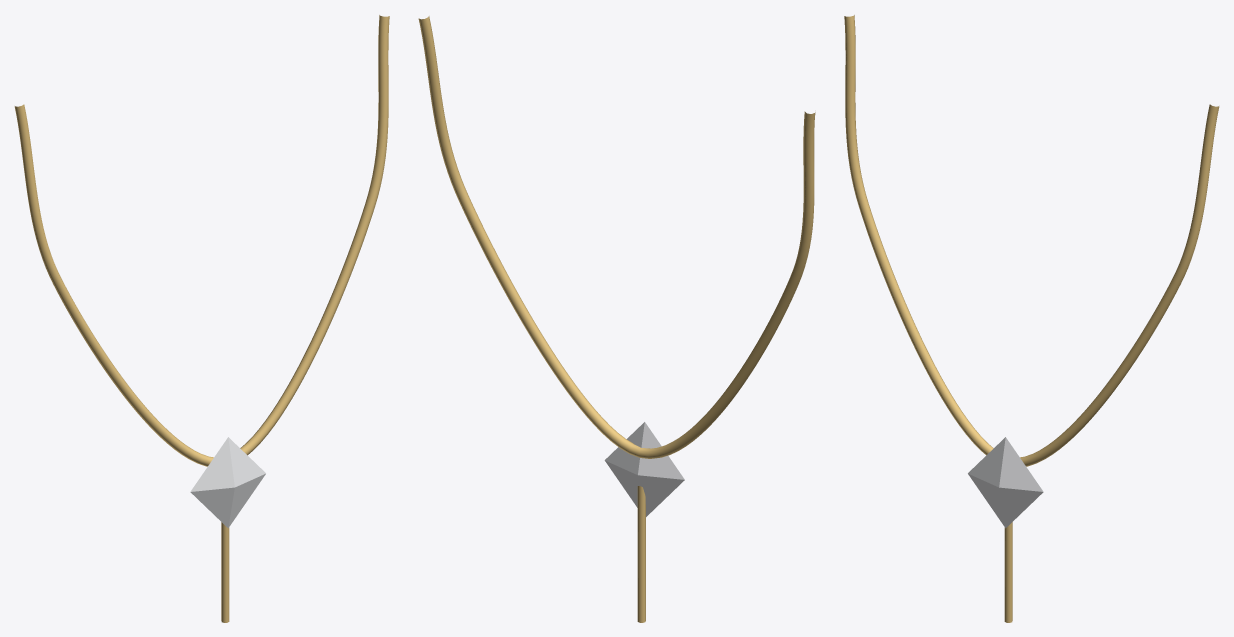
The picture shows the model from 3 angles, left to right: view 1: azimuth 30°, elevation 25°; view 2: azimuth 150°, elevation 25°; view 3: azimuth 330°, elevation 25°; orthographic projection. The views are drawn at different scales.
Size of the model in its own units: 1.48 by 2.05 by 0.2429.
